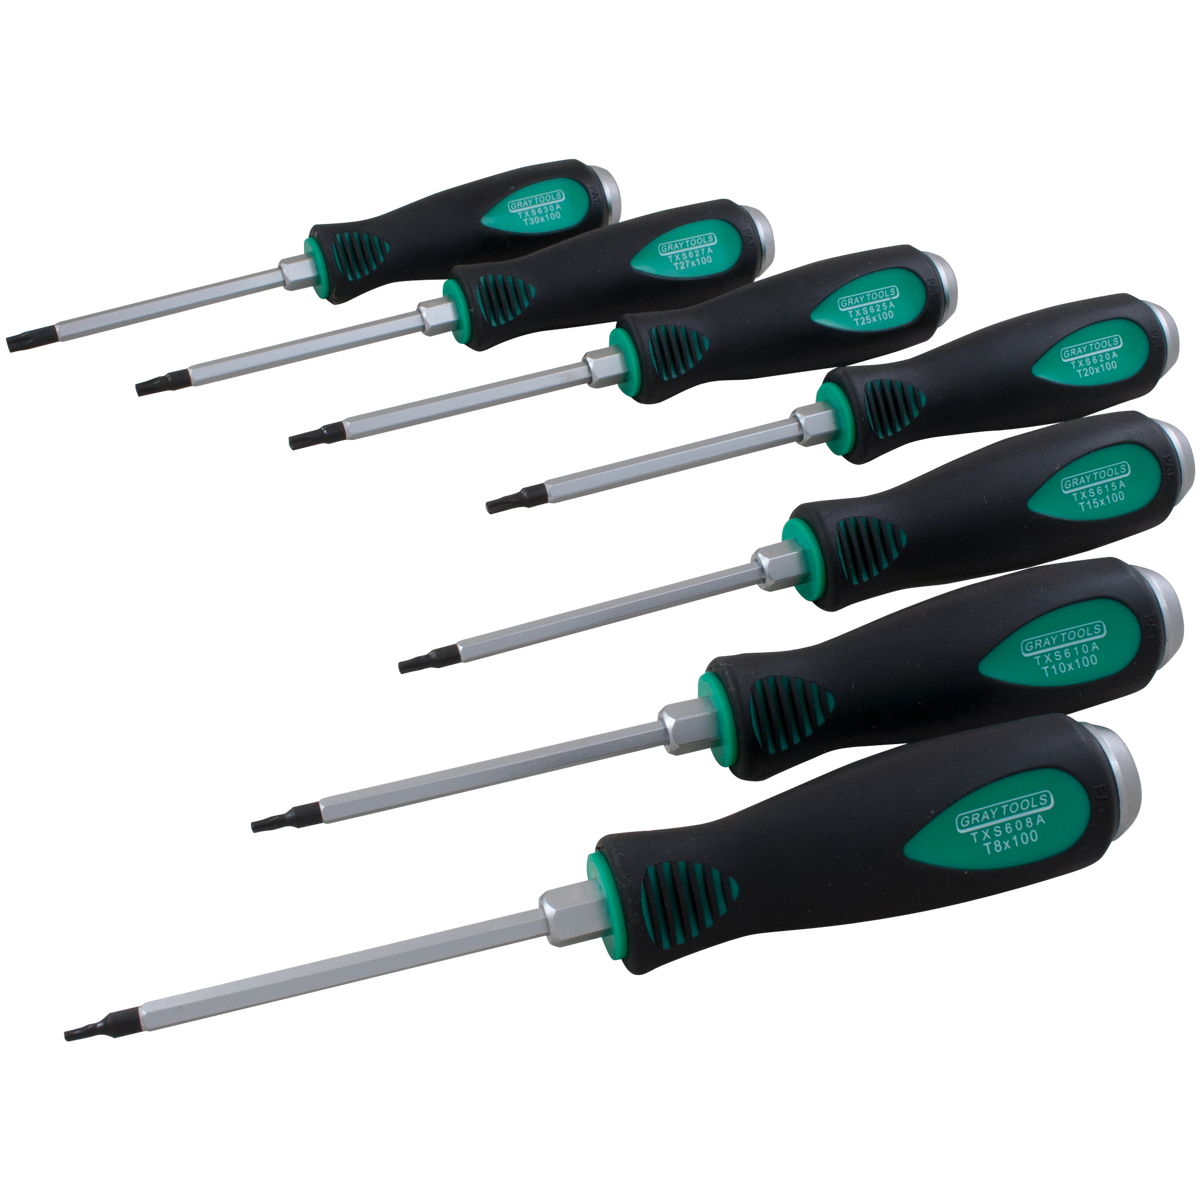screwdriver: (62, 715, 1146, 1046), (247, 555, 1185, 836), (397, 408, 1200, 677), (481, 290, 1188, 516), (285, 238, 963, 454), (130, 196, 780, 399), (7, 154, 624, 353)
